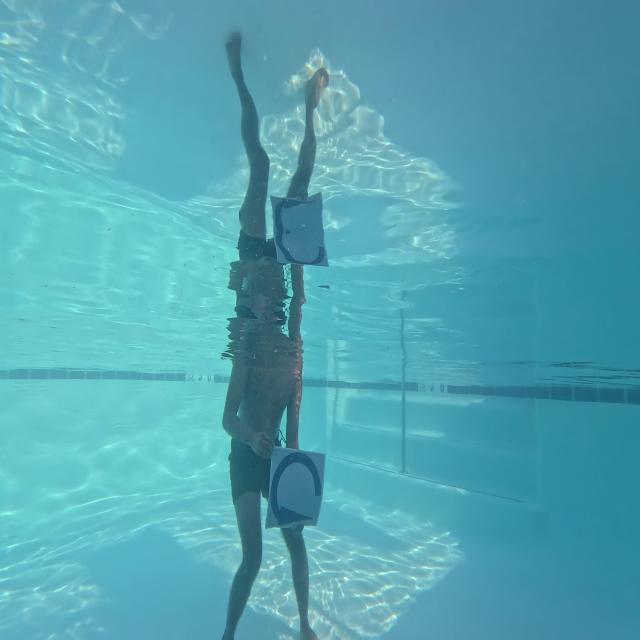blue_side: (262, 448, 320, 536)
